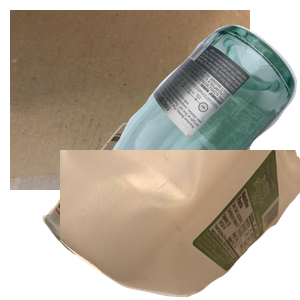cardboard: (10, 10, 250, 190)
glass: (86, 22, 300, 202)
plastic: (60, 150, 300, 300)
trash: (40, 121, 221, 300)
